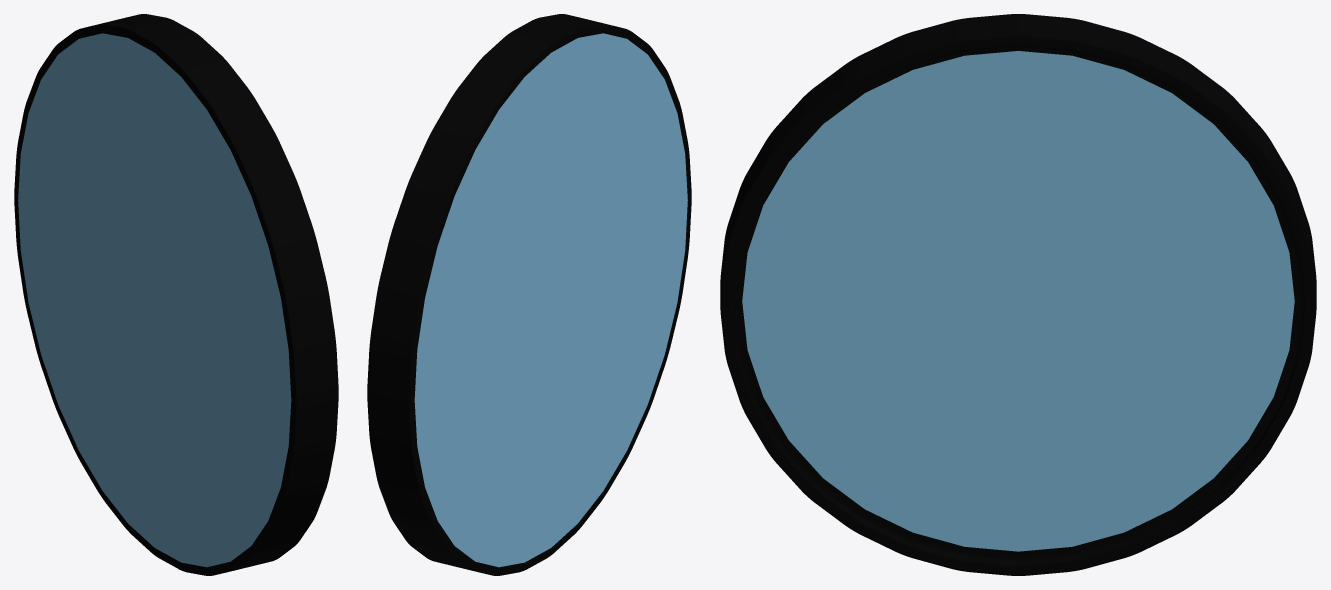
Rendered from mirror.fbx.
3 renders of one model, left to right at view 1: azimuth 30°, elevation 25°; view 2: azimuth 150°, elevation 25°; view 3: azimuth 270°, elevation 25°, orthographic. The views are drawn at different scales.
Visible parts, largest first — view 1: Cylinder.002; view 2: Cylinder.002; view 3: Cylinder.002.
Part boxes in pixels (bbox=[...]): Cylinder.002: bbox=[14, 14, 338, 575]; Cylinder.002: bbox=[367, 14, 691, 575]; Cylinder.002: bbox=[720, 14, 1316, 575].
Bounding box in the file's own units: 13.8 × 155 × 155.
